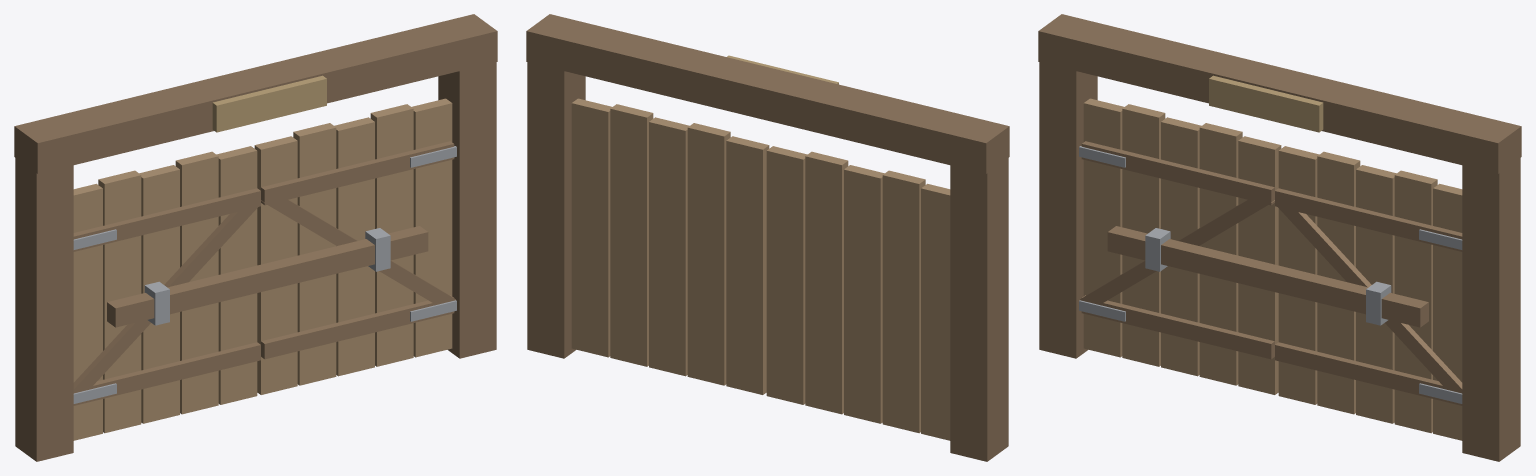
File: wall_gate_locked.glb
The picture shows the model from 3 angles, left to right: view 1: azimuth 30°, elevation 25°; view 2: azimuth 150°, elevation 25°; view 3: azimuth 330°, elevation 25°; orthographic projection.
Parts seen in each view (by area): view 1: Gate.Lintel, Gate.Post, Gate.Post#2, Gate.Bar, Gate.Leaf#6, Gate.Leaf#10, Gate.Leaf#8, Gate.Leaf#9, Gate.Leaf#5, Gate.Leaf#7, Gate.Leaf#2, Gate.Leaf#3 (+15 smaller); view 2: Gate.Lintel, Gate.Post, Gate.Post#2, Gate.Leaf#10, Gate.Leaf#9, Gate.Leaf#6, Gate.Leaf#5, Gate.Leaf#2, Gate.Leaf#4, Gate.Leaf#7, Gate.Leaf#3, Gate.Leaf#8 (+1 smaller); view 3: Gate.Lintel, Gate.Post#2, Gate.Post, Gate.Bar, Gate.Leaf, Gate.Leaf#5, Gate.Leaf#3, Gate.Leaf#4, Gate.Leaf#10, Gate.Leaf#2, Gate.Leaf#7, Gate.Leaf#8 (+15 smaller).
Boxes of the visible parts, x1=… form: Gate.Lintel: x1=14, y1=14, x2=497, y2=173; Gate.Post: x1=15, y1=129, x2=73, y2=461; Gate.Post#2: x1=438, y1=62, x2=496, y2=358; Gate.Bar: x1=107, y1=226, x2=428, y2=327; Gate.Leaf#6: x1=412, y1=98, x2=452, y2=357; Gate.Leaf#10: x1=254, y1=136, x2=297, y2=394; Gate.Leaf#8: x1=334, y1=117, x2=374, y2=376; Gate.Leaf#9: x1=293, y1=123, x2=336, y2=385; Gate.Leaf#5: x1=216, y1=146, x2=257, y2=404; Gate.Leaf#7: x1=370, y1=104, x2=413, y2=366; Gate.Leaf#2: x1=98, y1=170, x2=141, y2=433; Gate.Leaf#3: x1=139, y1=165, x2=179, y2=423; Gate.Lintel: x1=526, y1=14, x2=1009, y2=173; Gate.Post: x1=950, y1=129, x2=1008, y2=461; Gate.Post#2: x1=527, y1=62, x2=585, y2=358; Gate.Leaf#10: x1=726, y1=136, x2=769, y2=394; Gate.Leaf#9: x1=687, y1=123, x2=730, y2=385; Gate.Leaf#6: x1=571, y1=98, x2=611, y2=357; Gate.Leaf#5: x1=766, y1=146, x2=807, y2=404; Gate.Leaf#2: x1=882, y1=170, x2=925, y2=433; Gate.Leaf#4: x1=805, y1=151, x2=848, y2=414; Gate.Leaf#7: x1=610, y1=104, x2=653, y2=366; Gate.Leaf#3: x1=844, y1=165, x2=884, y2=423; Gate.Leaf#8: x1=649, y1=117, x2=689, y2=376; Gate.Lintel: x1=1038, y1=14, x2=1521, y2=173; Gate.Post#2: x1=1462, y1=129, x2=1520, y2=461; Gate.Post: x1=1039, y1=62, x2=1097, y2=358; Gate.Bar: x1=1107, y1=226, x2=1428, y2=327; Gate.Leaf: x1=1083, y1=98, x2=1123, y2=357; Gate.Leaf#5: x1=1238, y1=136, x2=1281, y2=394; Gate.Leaf#3: x1=1161, y1=117, x2=1201, y2=376; Gate.Leaf#4: x1=1199, y1=123, x2=1242, y2=385; Gate.Leaf#10: x1=1278, y1=146, x2=1319, y2=404; Gate.Leaf#2: x1=1122, y1=104, x2=1165, y2=366; Gate.Leaf#7: x1=1394, y1=170, x2=1437, y2=433; Gate.Leaf#8: x1=1356, y1=165, x2=1396, y2=423.
Bounding box in the file's own units: 5 × 3.32 × 0.54.
